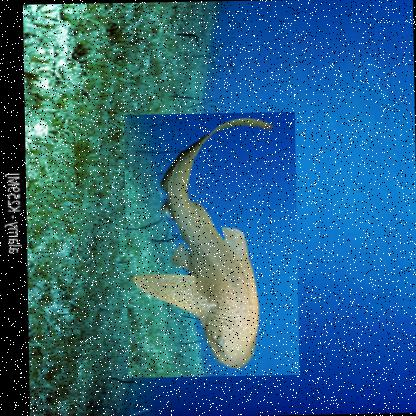zebra_shark: (122, 109, 299, 376)
